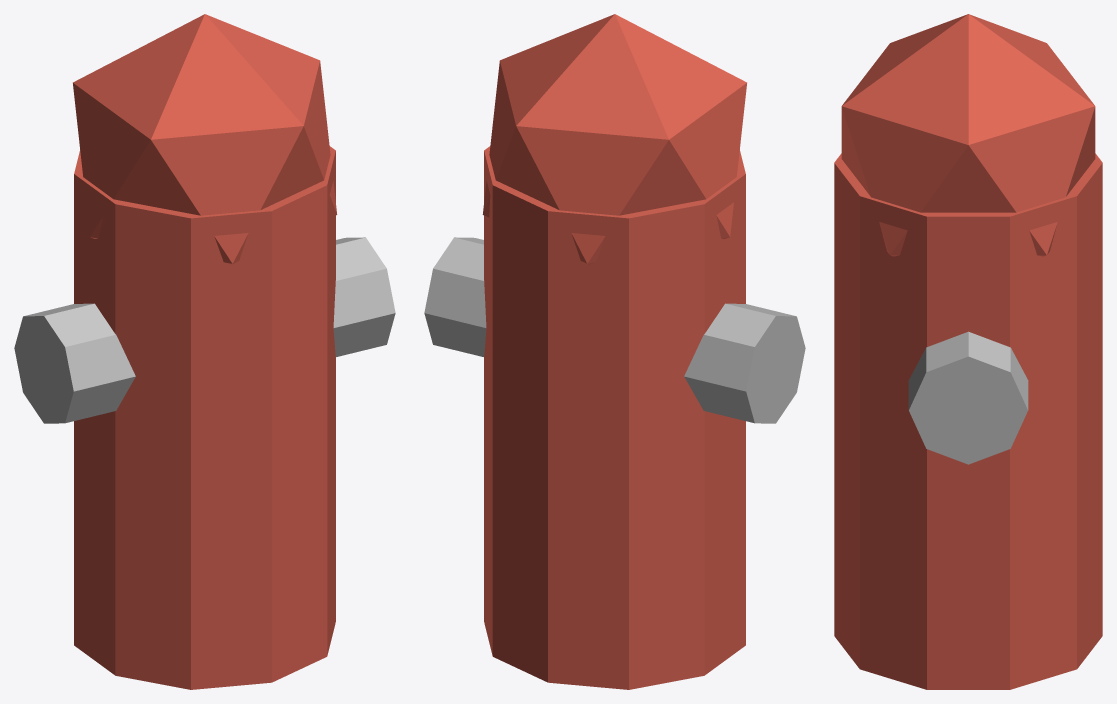
The model's file is hydrant.glb.
3 views of the same model, side by side, from view 1: azimuth 30°, elevation 25°; view 2: azimuth 150°, elevation 25°; view 3: azimuth 270°, elevation 25° (orthographic).
Parts seen in each view (by area): view 1: hydrant; view 2: hydrant; view 3: hydrant.
Part boxes in pixels (x1,y1,x2,y2): hydrant: [14, 14, 395, 689]; hydrant: [424, 14, 805, 689]; hydrant: [834, 14, 1102, 689].
Bounding box in the file's own units: 0.5 × 0.92 × 0.36.
